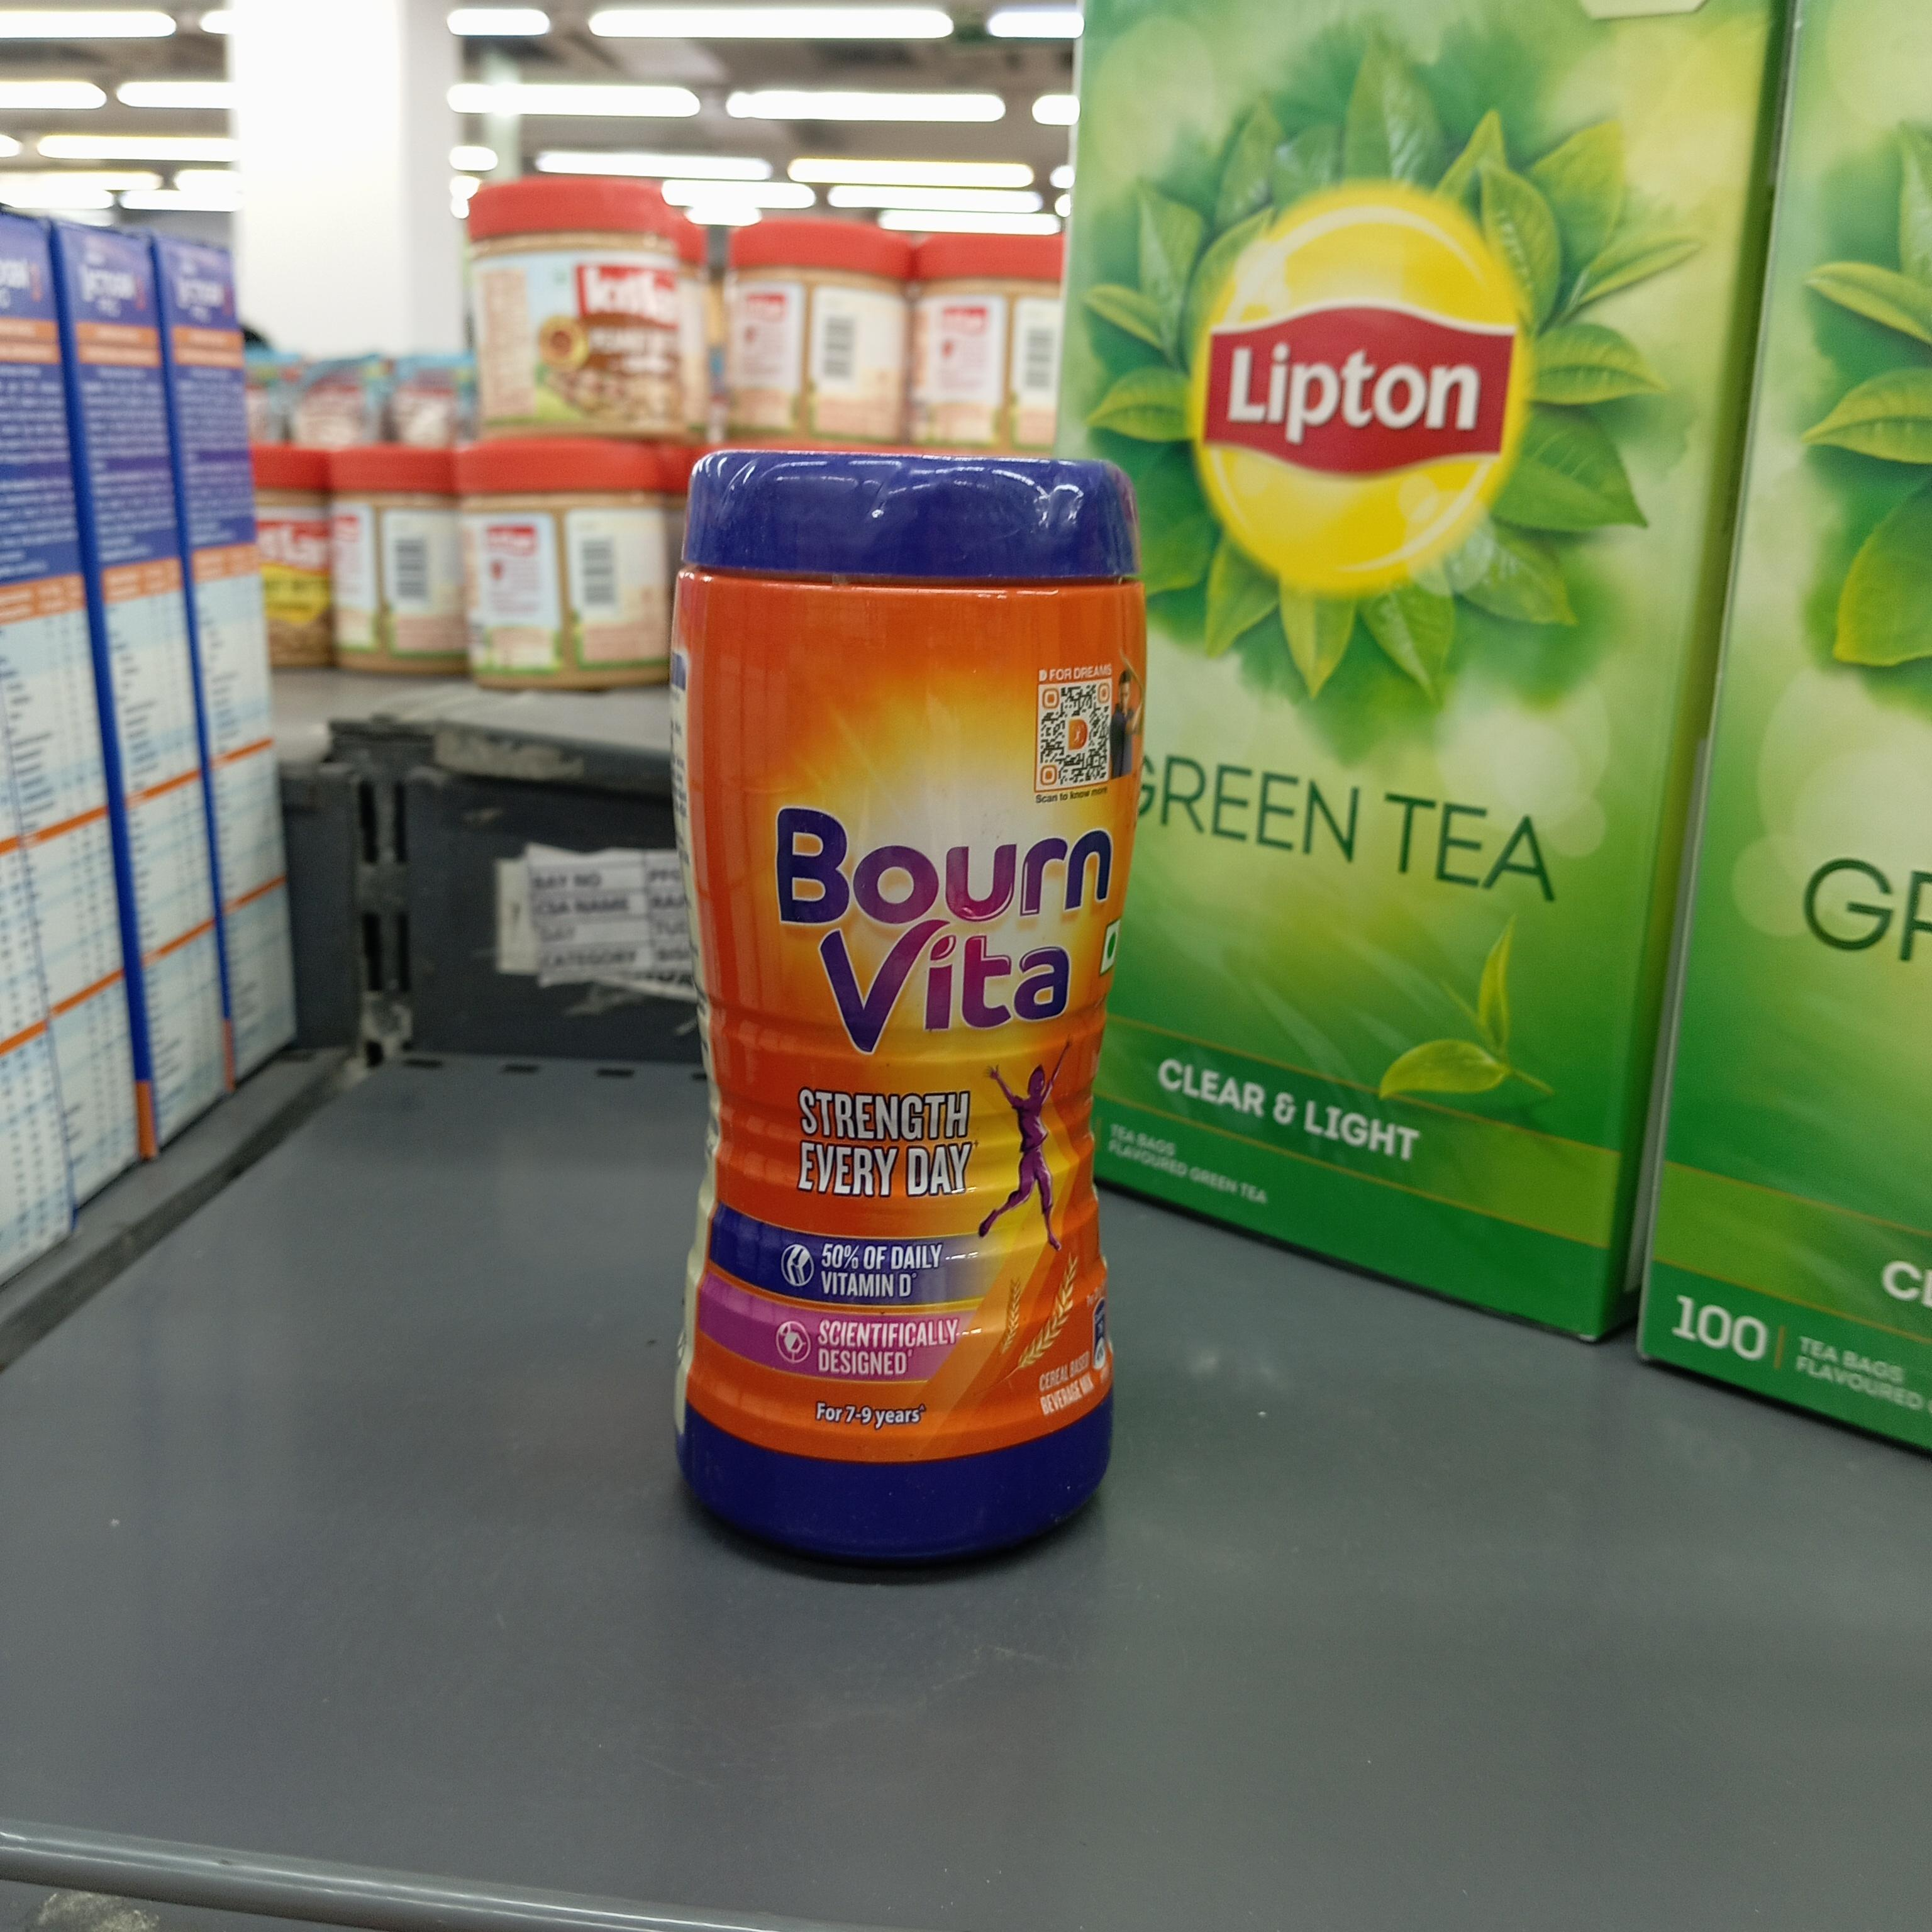BOURN_VITA_200_G_JAR: (655, 402, 1095, 1566)
